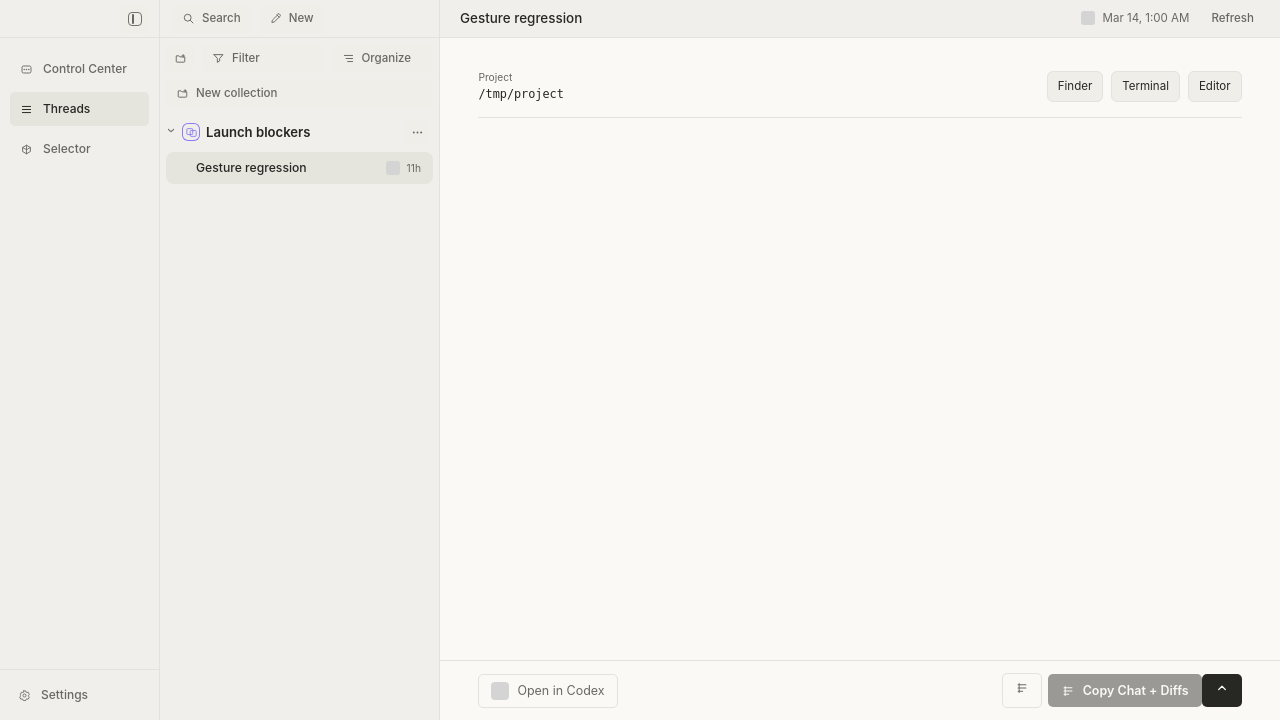
Scenario: Handoff App › opens the collection actions menu from the collection header
The image size is (1280, 720).
Click the button named "Open collection actions": (417, 132) [405,120,429,144]
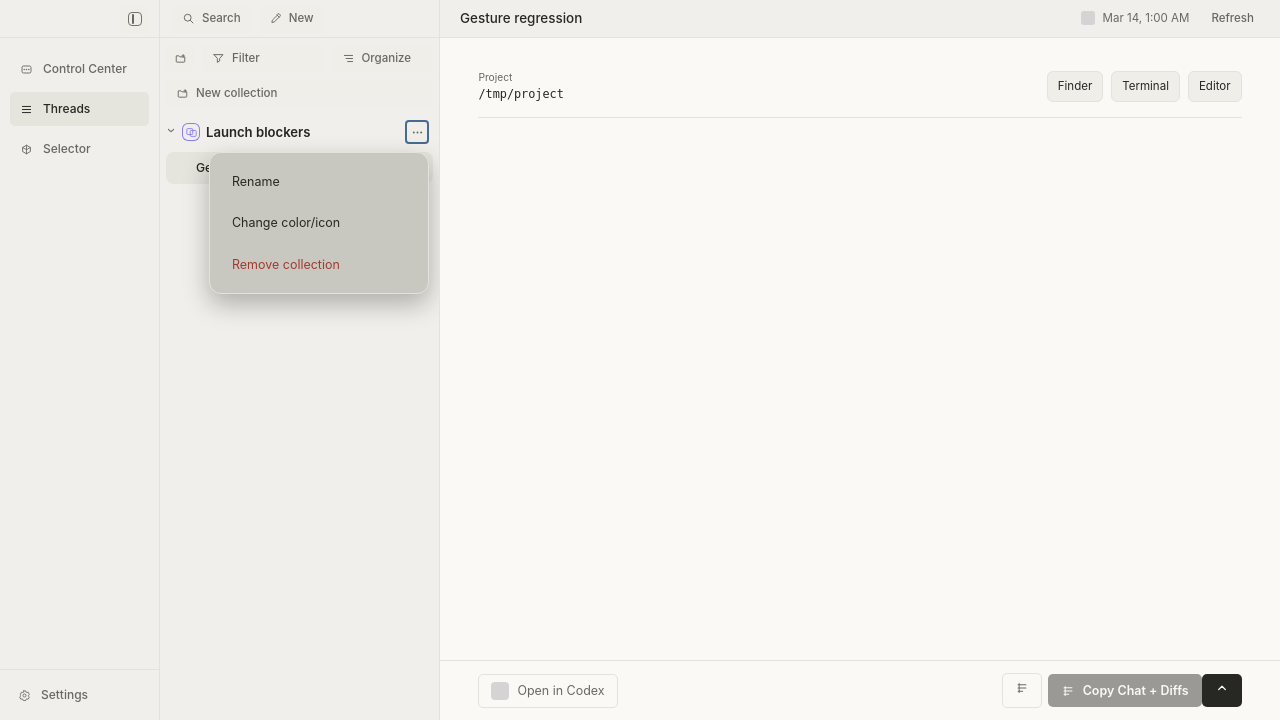
Expected: the button "Rename" is shown, [222,165,416,198]
Expected: the button "Change color/icon" is shown, [222,206,416,240]
Expected: the button "Remove collection" is shown, [222,248,416,281]
